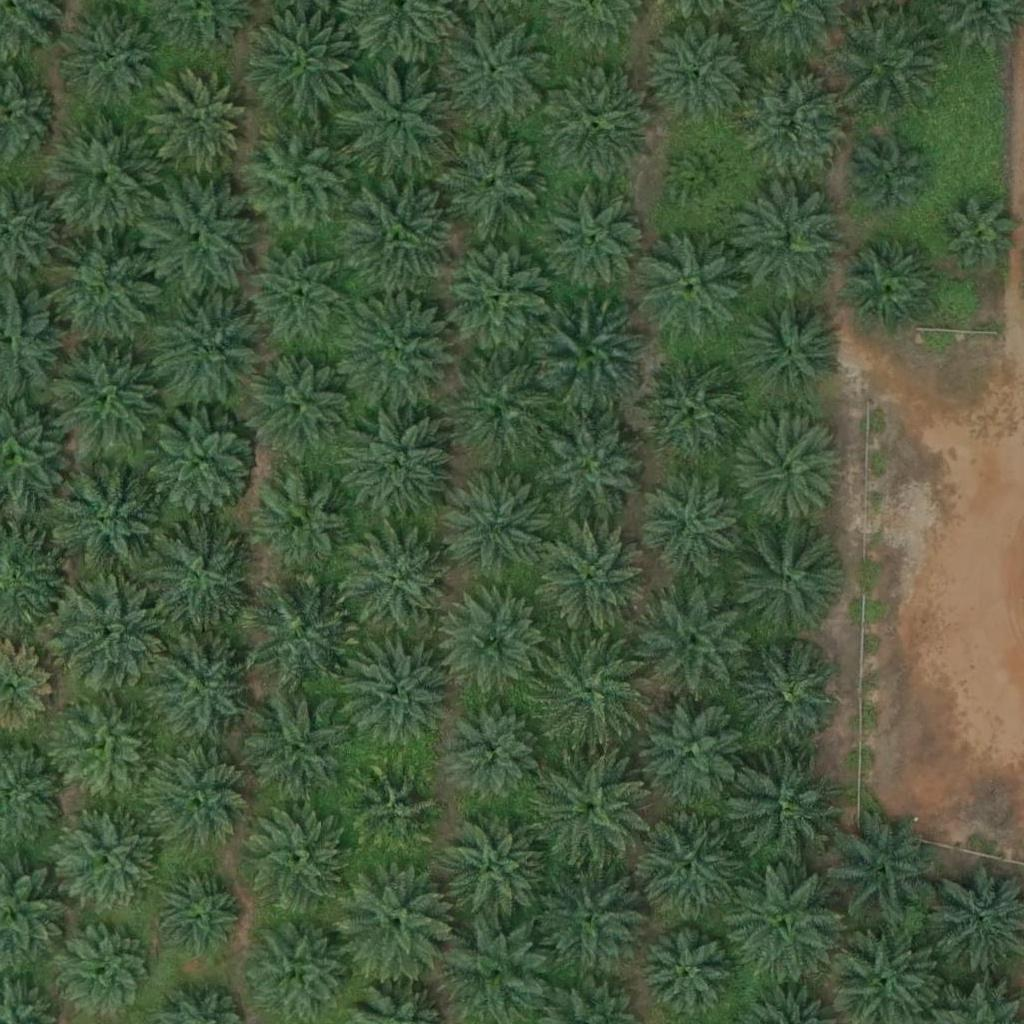Kelapa_Sawit: (737, 64, 850, 178), (238, 121, 351, 235), (343, 179, 456, 293), (343, 297, 456, 411), (442, 353, 555, 467), (443, 468, 556, 582), (829, 815, 942, 929), (342, 60, 455, 173), (244, 9, 357, 122), (48, 342, 161, 455), (50, 468, 163, 581), (53, 578, 166, 691), (339, 410, 452, 523), (346, 528, 459, 641), (439, 587, 552, 700), (635, 231, 748, 344), (632, 353, 745, 466), (731, 188, 844, 301), (735, 292, 848, 405), (735, 415, 848, 528), (730, 527, 843, 640), (534, 754, 647, 867), (533, 859, 646, 972), (436, 808, 549, 921), (145, 631, 258, 744), (444, 243, 556, 357), (536, 408, 648, 522), (535, 525, 647, 639), (638, 586, 750, 700), (732, 754, 844, 868), (835, 1, 947, 114), (541, 69, 653, 182), (444, 16, 556, 129), (44, 120, 156, 233), (47, 236, 159, 349), (146, 180, 258, 293), (152, 292, 264, 405), (146, 404, 258, 517), (141, 517, 253, 630), (245, 347, 357, 460), (242, 577, 354, 690), (438, 125, 550, 238), (536, 301, 648, 414), (530, 634, 642, 747), (729, 868, 841, 981), (633, 813, 745, 926), (340, 864, 452, 977), (239, 803, 351, 916), (635, 698, 747, 811), (339, 631, 451, 744), (243, 690, 355, 803), (150, 69, 250, 170), (63, 7, 163, 108), (254, 470, 354, 571), (546, 190, 646, 291), (147, 745, 247, 846), (58, 696, 158, 797), (651, 22, 751, 122), (249, 248, 349, 348), (641, 473, 741, 573), (740, 646, 840, 746), (57, 808, 157, 908), (55, 919, 155, 1019), (846, 244, 934, 333), (350, 765, 438, 854), (642, 932, 729, 1020), (152, 869, 239, 957), (451, 708, 538, 796), (855, 144, 930, 220), (941, 195, 1016, 270), (672, 147, 734, 210)
